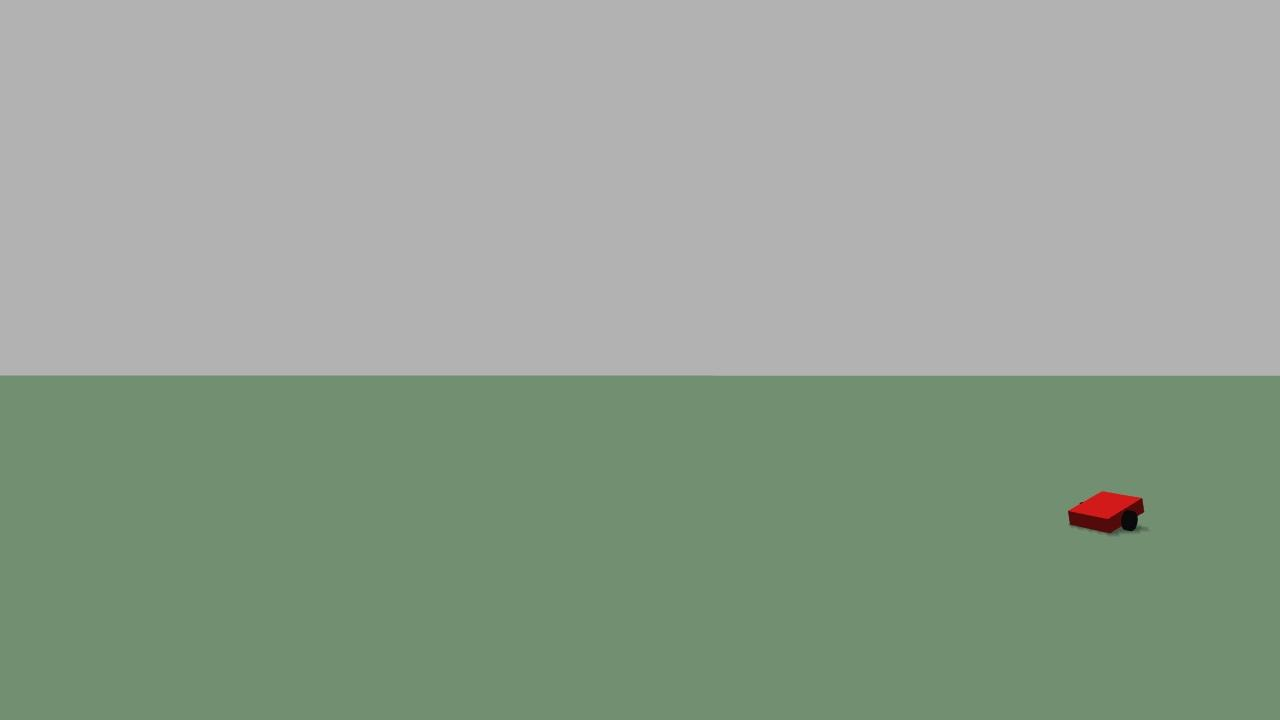ground_vehicle: (1061, 489, 1160, 544)
